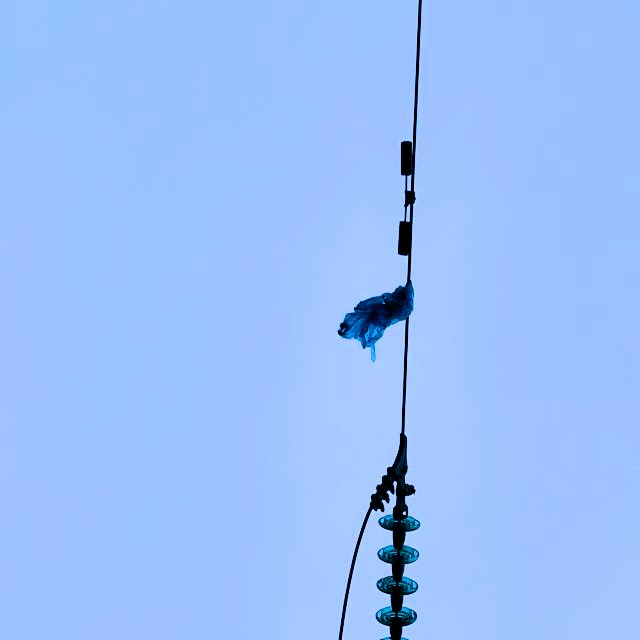wire foreign body: (332, 275, 435, 364)
